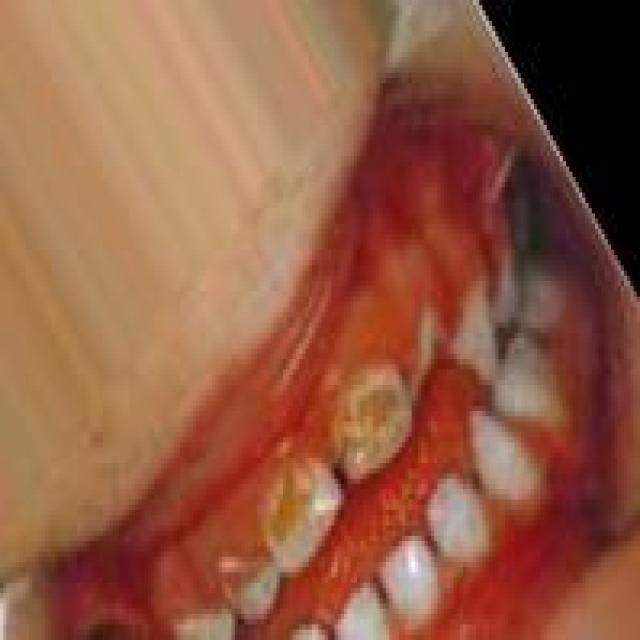caries: (324, 361, 406, 478), (257, 458, 328, 572), (217, 538, 285, 626), (81, 597, 145, 640)
